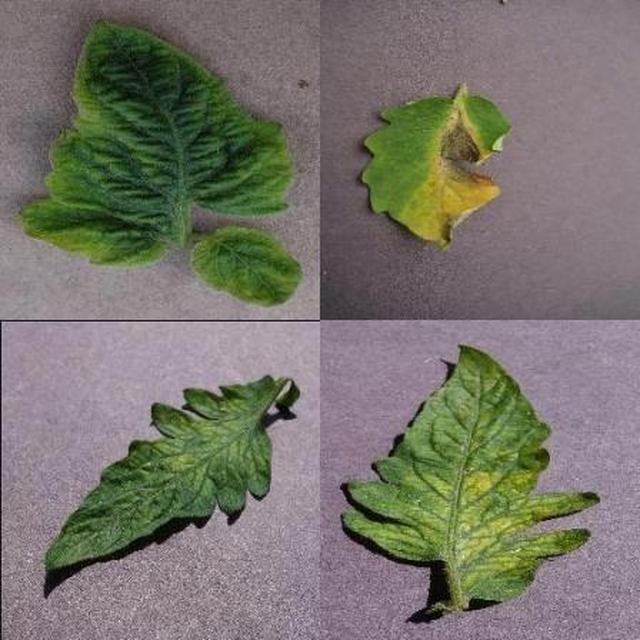Yellow Leaf Curl Virus: (163, 118, 640, 640)
